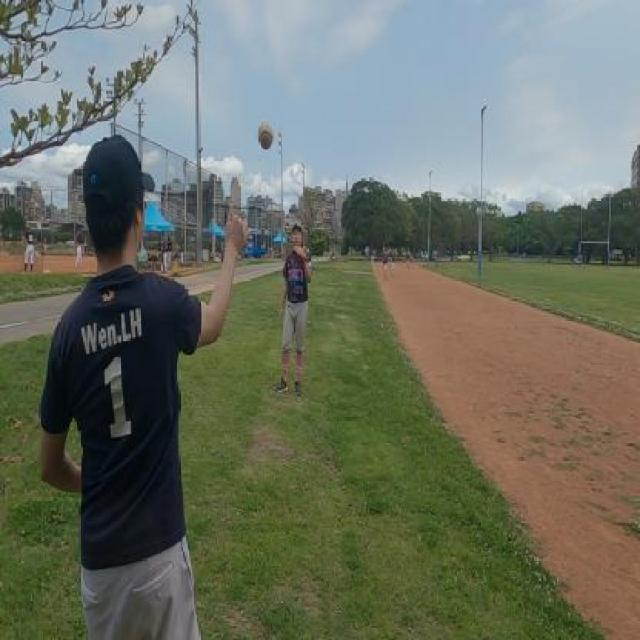baseball: (258, 120, 274, 152)
